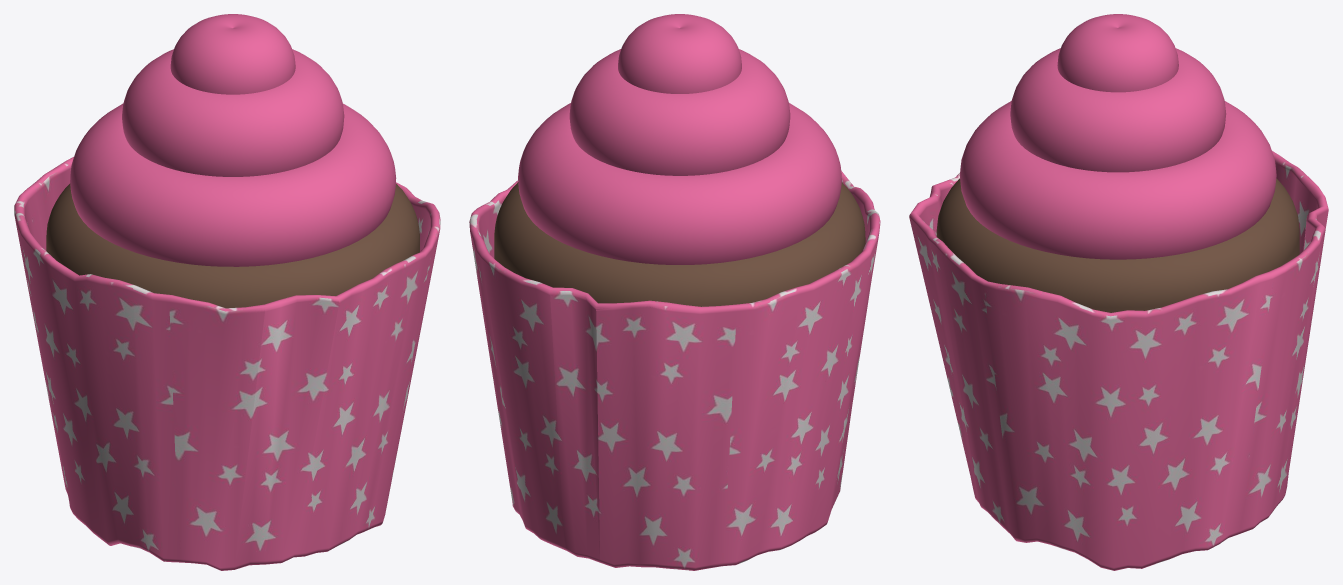
File: cupcake.glb
3 views of the same model, side by side, from view 1: azimuth 30°, elevation 25°; view 2: azimuth 150°, elevation 25°; view 3: azimuth 270°, elevation 25° (orthographic). The views are drawn at different scales.
Parts seen in each view (by area): view 1: Tube, Torus, Torus 1, Cylinder, Torus 2; view 2: Tube, Torus, Torus 1, Cylinder, Torus 2; view 3: Tube, Torus, Cylinder, Torus 1, Torus 2.
Boxes of the visible parts, box(x1,y1,x2,y2) form: Tube: box(14, 157, 440, 570); Torus: box(70, 103, 396, 266); Torus 1: box(122, 49, 344, 176); Cylinder: box(46, 183, 419, 308); Torus 2: box(170, 14, 295, 94); Tube: box(469, 171, 880, 570); Torus: box(518, 103, 841, 264); Torus 1: box(569, 49, 790, 175); Cylinder: box(494, 182, 865, 306); Torus 2: box(618, 14, 741, 93); Tube: box(909, 151, 1328, 570); Torus: box(959, 101, 1276, 259); Cylinder: box(936, 178, 1299, 312); Torus 1: box(1010, 48, 1226, 172); Torus 2: box(1057, 14, 1178, 92).
Bounding box in the file's own units: 0.114 × 0.1491 × 0.1181.
3 materials, 1 textured.
